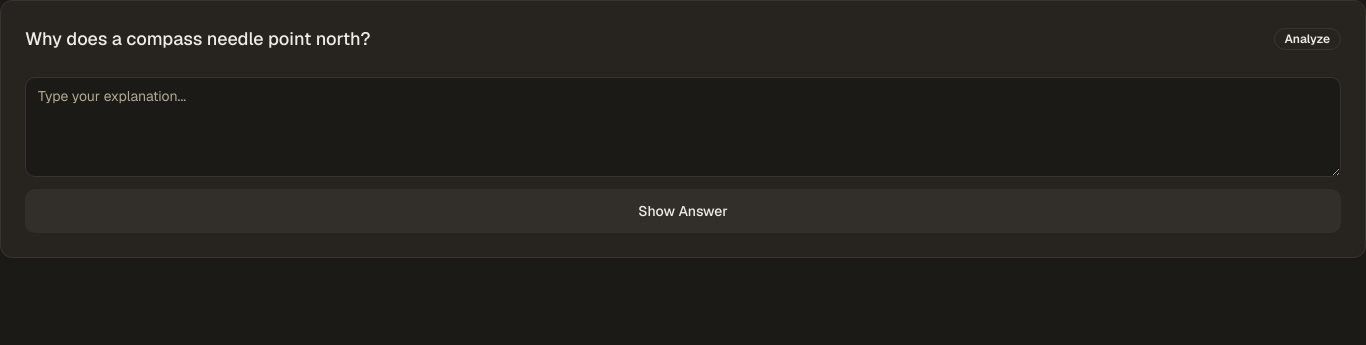
QuizCard › shows answer for explain-why after clicking show answer
The image size is (1366, 345).
Click the button "Show Answer" at (683, 211), box top-left (25, 189), bottom-right (1341, 233)
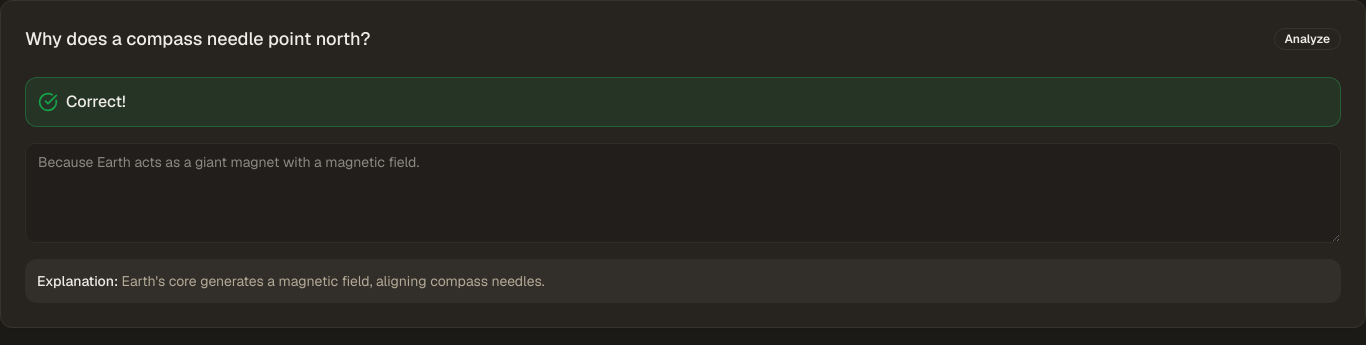
Now the text box "Because Earth acts as a giant magnet" is shown, box top-left (25, 143), bottom-right (1341, 243)
